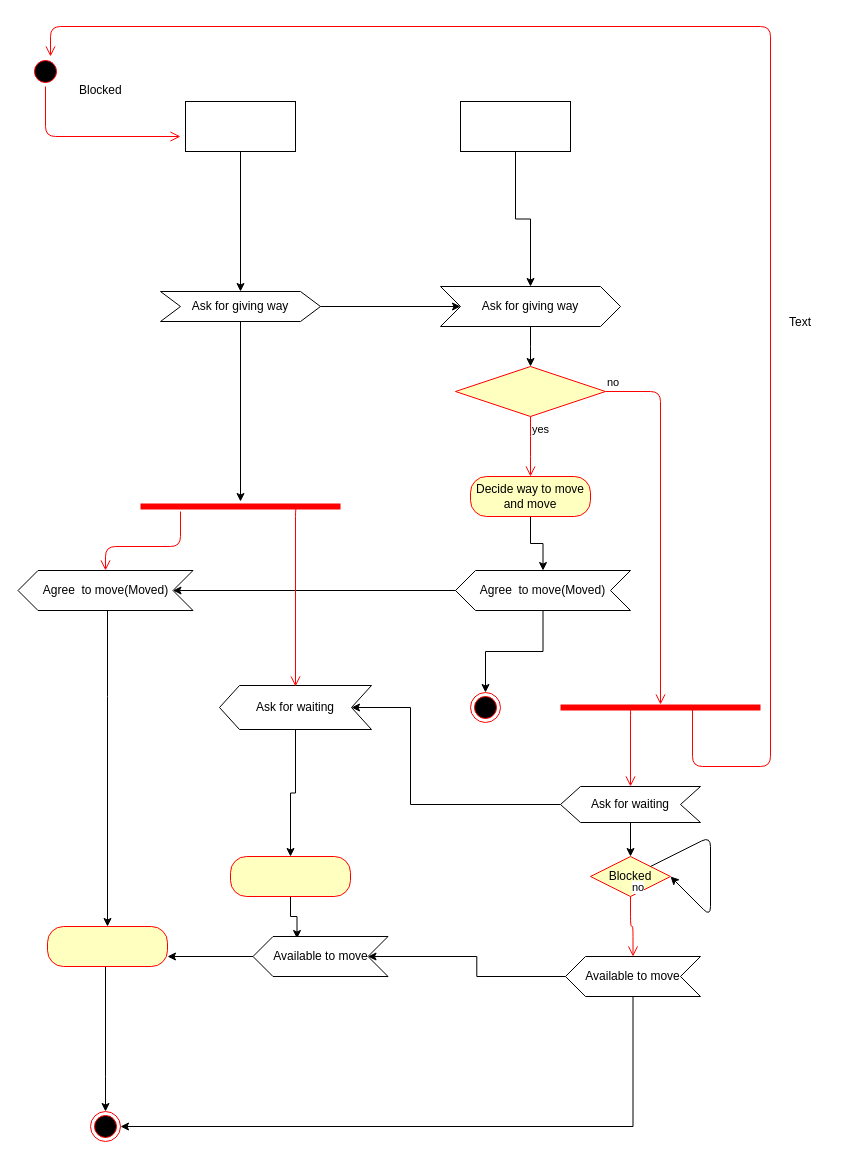
The diagram is 844 pixels wide and 1159 high, and some of its shapes have lost their labels. The box of each missing label's shape, as (x1, y1, x2, y2) in pixels:
Forward: (46, 926, 168, 966)
There is a way to move: (454, 366, 606, 416)
Wait: (230, 856, 350, 896)
«role» Other Visitor: (460, 100, 570, 152)
«role» Visitor: (184, 100, 296, 152)
